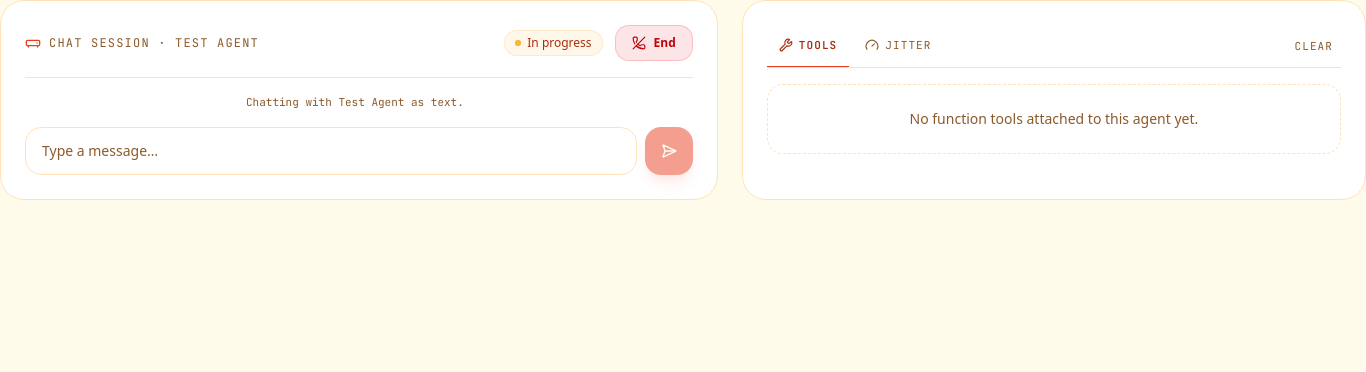
Scenario: ChatTalk over HTTP (specs 0038 + 0039) › shows unavailable on 404 without echoing the distinction (no oracle)
expect the text "Chatting with Test Agent as text." is shown: met, box [246,95,464,109]
Type "Hi" into the field named "Chat message" at (331, 150), box [25,126,637,174]
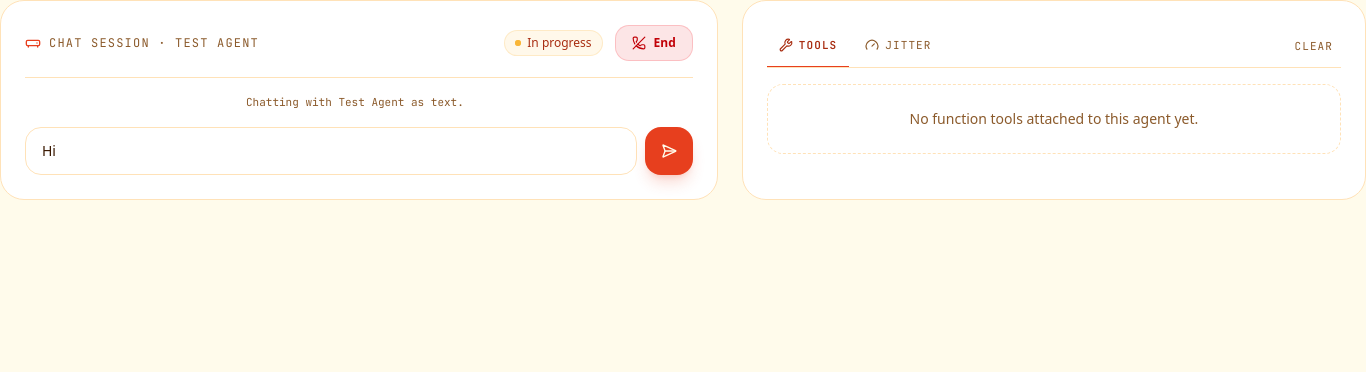
Click the button named "Send message" at (669, 150), box [645,126,693,174]
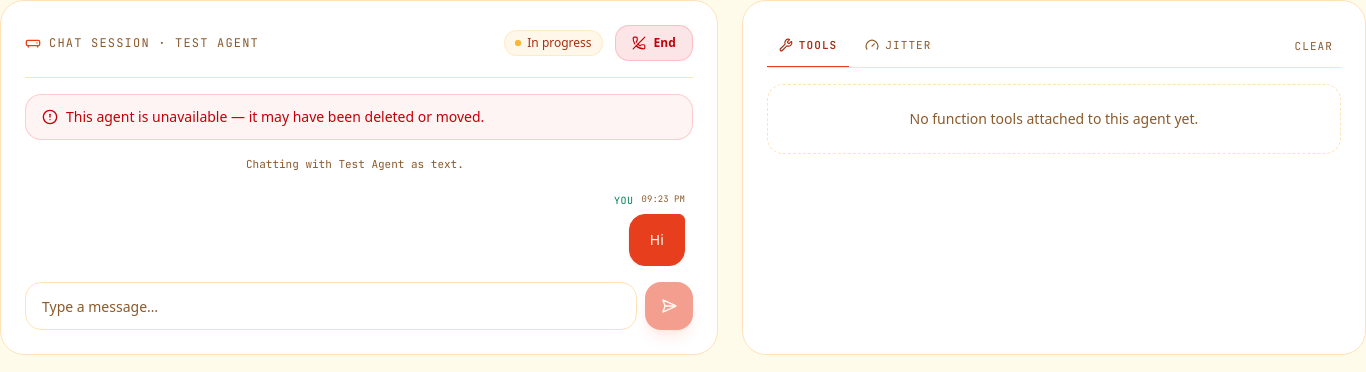
expect the text "This agent is unavailable — it may have been deleted or moved." is shown: met, box [25,94,693,140]
